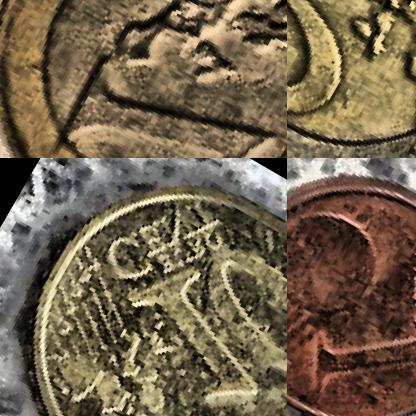coin: (0, 158, 286, 415), (0, 0, 286, 157), (287, 158, 415, 415), (287, 0, 415, 157)
